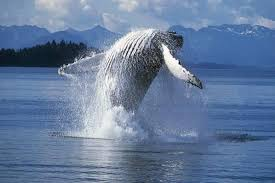humpback: (90, 28, 184, 130)
